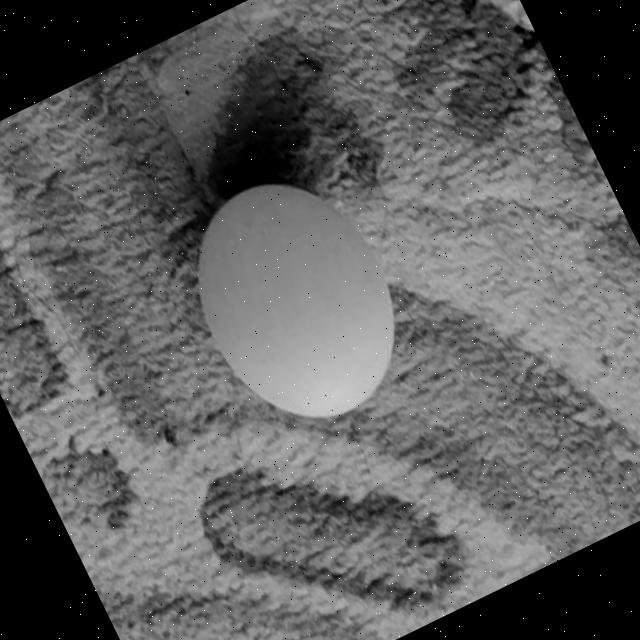ping-pong-ball: (160, 150, 429, 448)
